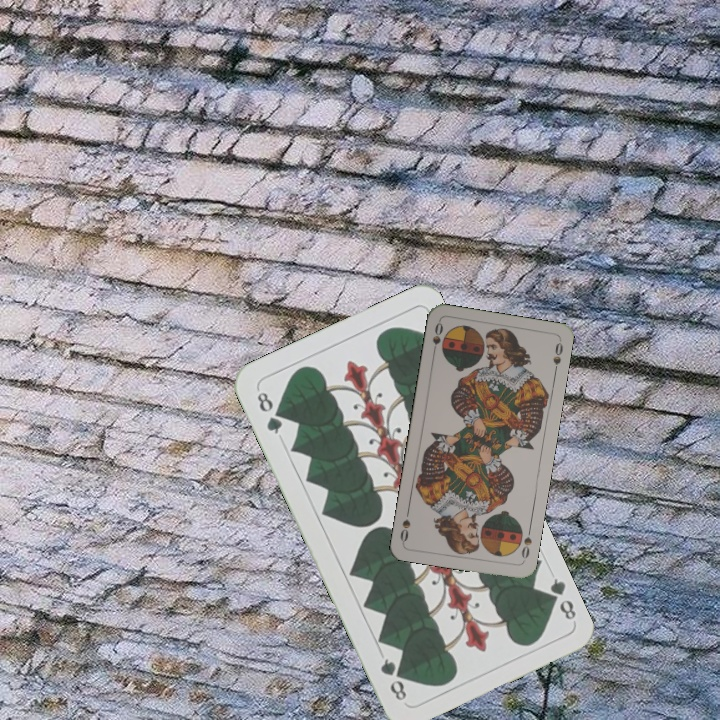G8: (540, 574, 579, 623), (252, 385, 285, 437)
SO: (428, 319, 446, 358), (517, 524, 534, 564)
